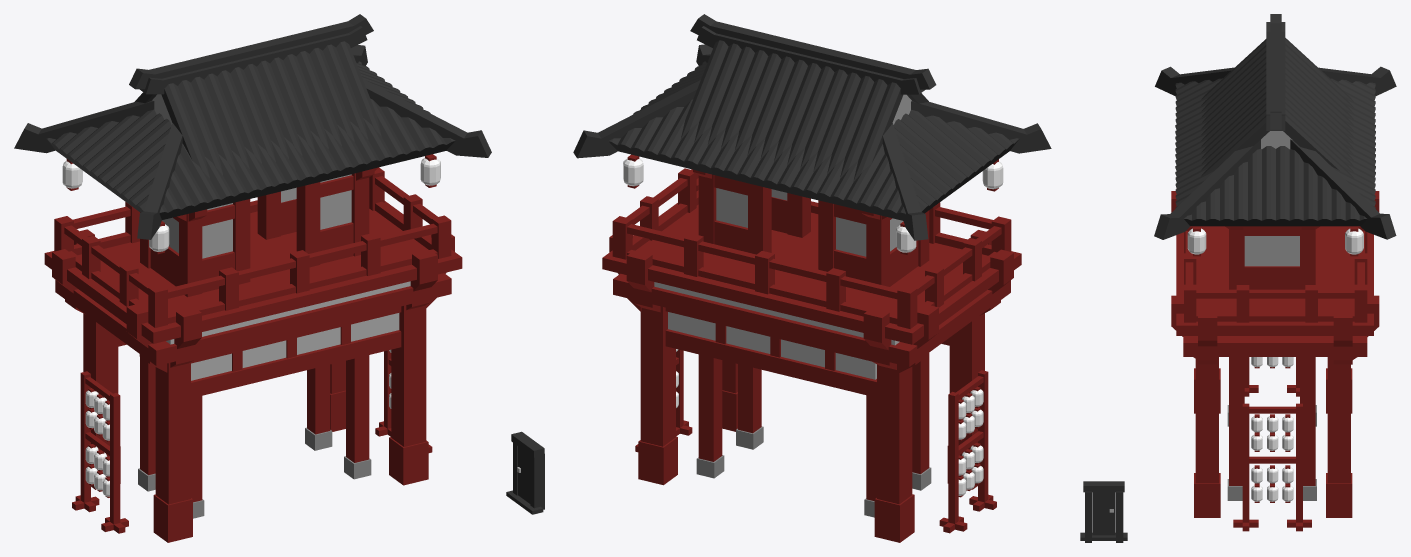
The model's file is fat tower.fbx.
3 renders of one model, left to right at view 1: azimuth 30°, elevation 25°; view 2: azimuth 150°, elevation 25°; view 3: azimuth 270°, elevation 25°, orthographic. The views are drawn at different scales.
Visible parts, largest first — view 1: 立方体.1737, 立方体.1795, 立方体.1760, 立方体.1735, 立方体.1753, 立方体.1719, 立方体.1721, 立方体.1782, 立方体.1725, 立方体.1728, 立方体.1746, 立方体.1729 (+28 smaller); view 2: 立方体.1737, 立方体.1796, 立方体.1761, 立方体.1735, 立方体.1753, 立方体.1720, 立方体.1722, 立方体.1782, 立方体.1726, 立方体.1732, 立方体.1747, 立方体.1733 (+30 smaller); view 3: 立方体.1737, 立方体.1752, 立方体.1796, 立方体.1795, 立方体.1783, 立方体.1722, 立方体.1721, 立方体.1760, 立方体.1735, 立方体.1761, 立方体.1725, 立方体.1726 (+18 smaller).
Part boxes in pixels (x1,y1,x2,y2): 立方体.1737: [44, 176, 462, 343]; 立方体.1795: [161, 41, 381, 178]; 立方体.1760: [159, 98, 455, 219]; 立方体.1735: [55, 273, 451, 365]; 立方体.1753: [46, 109, 171, 212]; 立方体.1719: [153, 362, 192, 542]; 立方体.1721: [389, 305, 428, 485]; 立方体.1782: [72, 371, 128, 533]; 立方体.1725: [344, 173, 371, 479]; 立方体.1728: [191, 330, 401, 398]; 立方体.1746: [148, 215, 451, 327]; 立方体.1729: [191, 313, 399, 380]; 立方体.1737: [602, 169, 1021, 344]; 立方体.1796: [680, 40, 903, 181]; 立方体.1761: [608, 99, 905, 220]; 立方体.1735: [613, 273, 1010, 366]; 立方体.1753: [893, 110, 1018, 213]; 立方体.1720: [874, 364, 914, 542]; 立方体.1722: [638, 306, 677, 485]; 立方体.1782: [939, 370, 996, 533]; 立方体.1726: [696, 174, 724, 478]; 立方体.1732: [665, 329, 876, 397]; 立方体.1747: [612, 216, 917, 328]; 立方体.1733: [668, 312, 876, 379]; 立方体.1737: [1176, 188, 1373, 335]; 立方体.1752: [1184, 146, 1366, 226]; 立方体.1796: [1283, 38, 1353, 177]; 立方体.1795: [1201, 39, 1269, 175]; 立方体.1783: [1233, 403, 1311, 531]; 立方体.1722: [1326, 357, 1352, 517]; 立方体.1721: [1194, 357, 1220, 517]; 立方体.1760: [1175, 78, 1222, 208]; 立方体.1735: [1183, 336, 1367, 356]; 立方体.1761: [1330, 78, 1375, 208]; 立方体.1725: [1227, 226, 1244, 500]; 立方体.1726: [1300, 226, 1316, 500].
Bounding box in the file's own units: 321 × 366 × 265.
